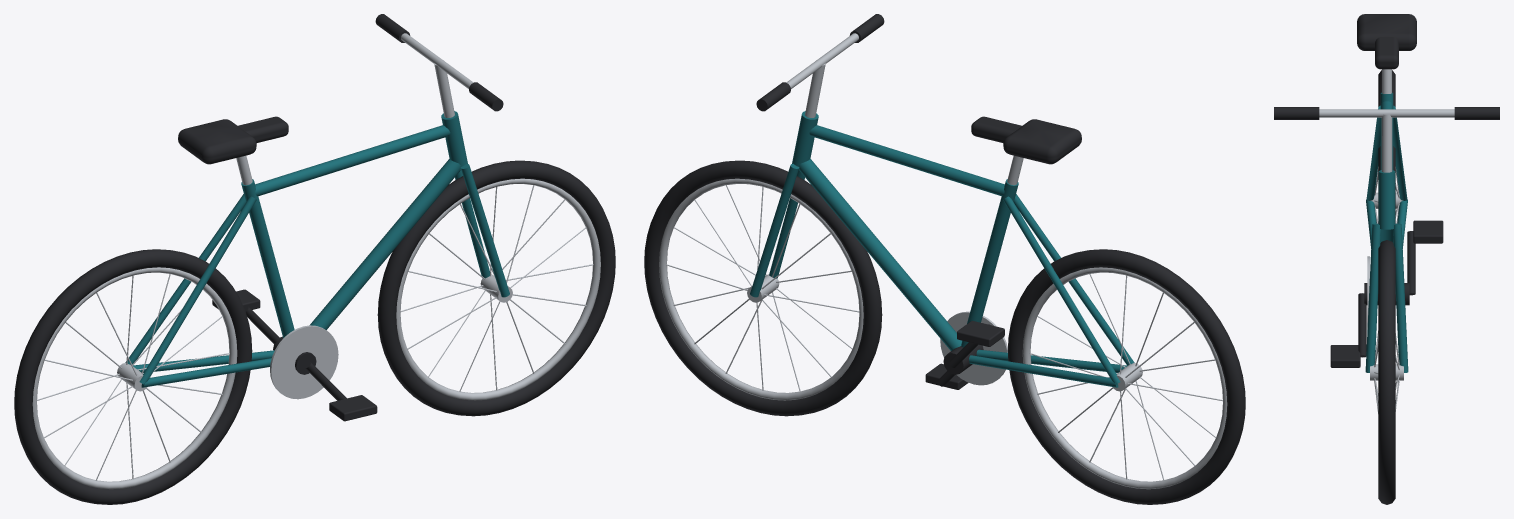
The model's file is bike.glb.
3 views of the same model, side by side, from view 1: azimuth 30°, elevation 25°; view 2: azimuth 150°, elevation 25°; view 3: azimuth 270°, elevation 25° (orthographic). The views are drawn at different scales.
Parts seen in each view (by area): view 1: bike_dark, bike_metal, bike_fabric; view 2: bike_dark, bike_metal, bike_fabric; view 3: bike_dark, bike_fabric, bike_metal.
Part boxes in pixels (x1,y1,x2,y2): bike_dark: [14, 14, 615, 504]; bike_metal: [32, 33, 600, 489]; bike_fabric: [125, 111, 509, 387]; bike_dark: [644, 14, 1245, 504]; bike_metal: [659, 33, 1227, 489]; bike_fabric: [750, 111, 1134, 387]; bike_dark: [1274, 14, 1499, 504]; bike_fabric: [1365, 92, 1408, 372]; bike_metal: [1319, 69, 1454, 413].
Bounding box in the file's own units: 1.78 × 1.05 × 0.6.
